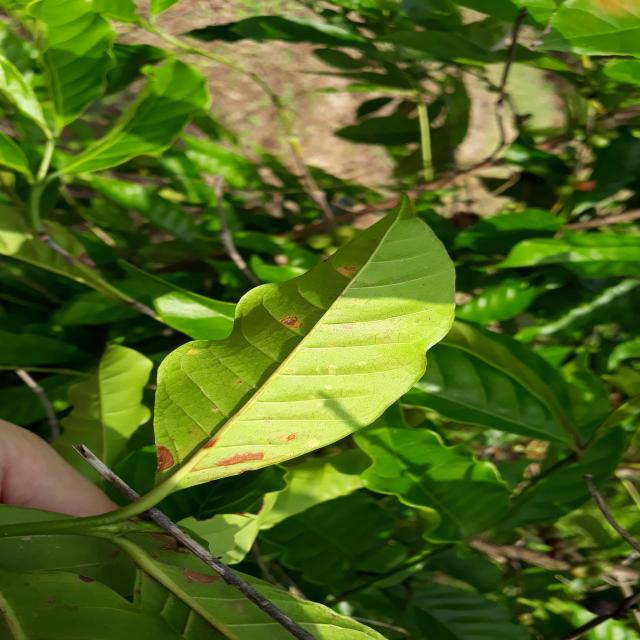Plaga-AranaRoja: (135, 201, 459, 514)
